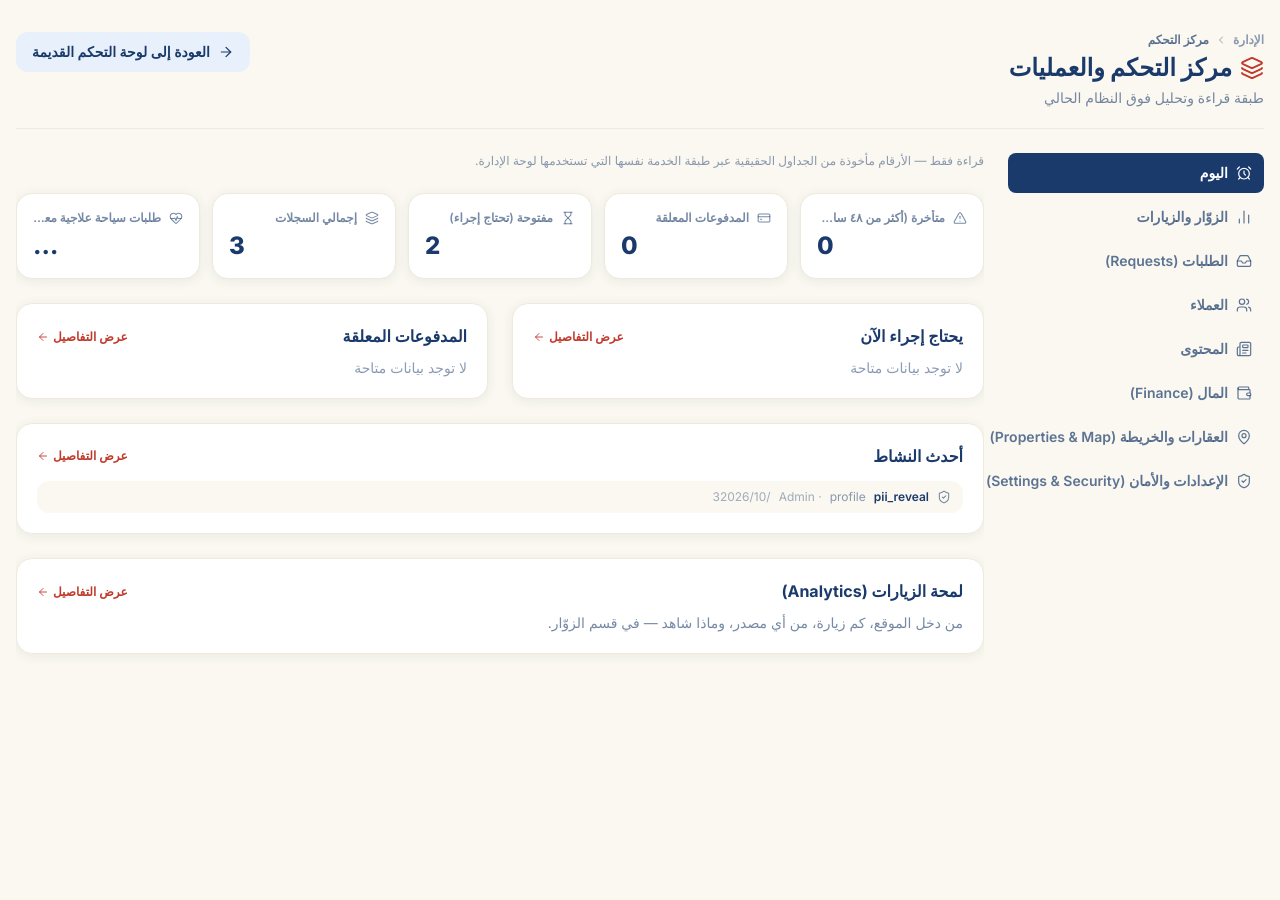
Scenario: Control Center navigation › navigates to money via its sidebar button
Click the button "المال (Finance)".
click(1136, 393)  # box [1008, 373, 1264, 413]
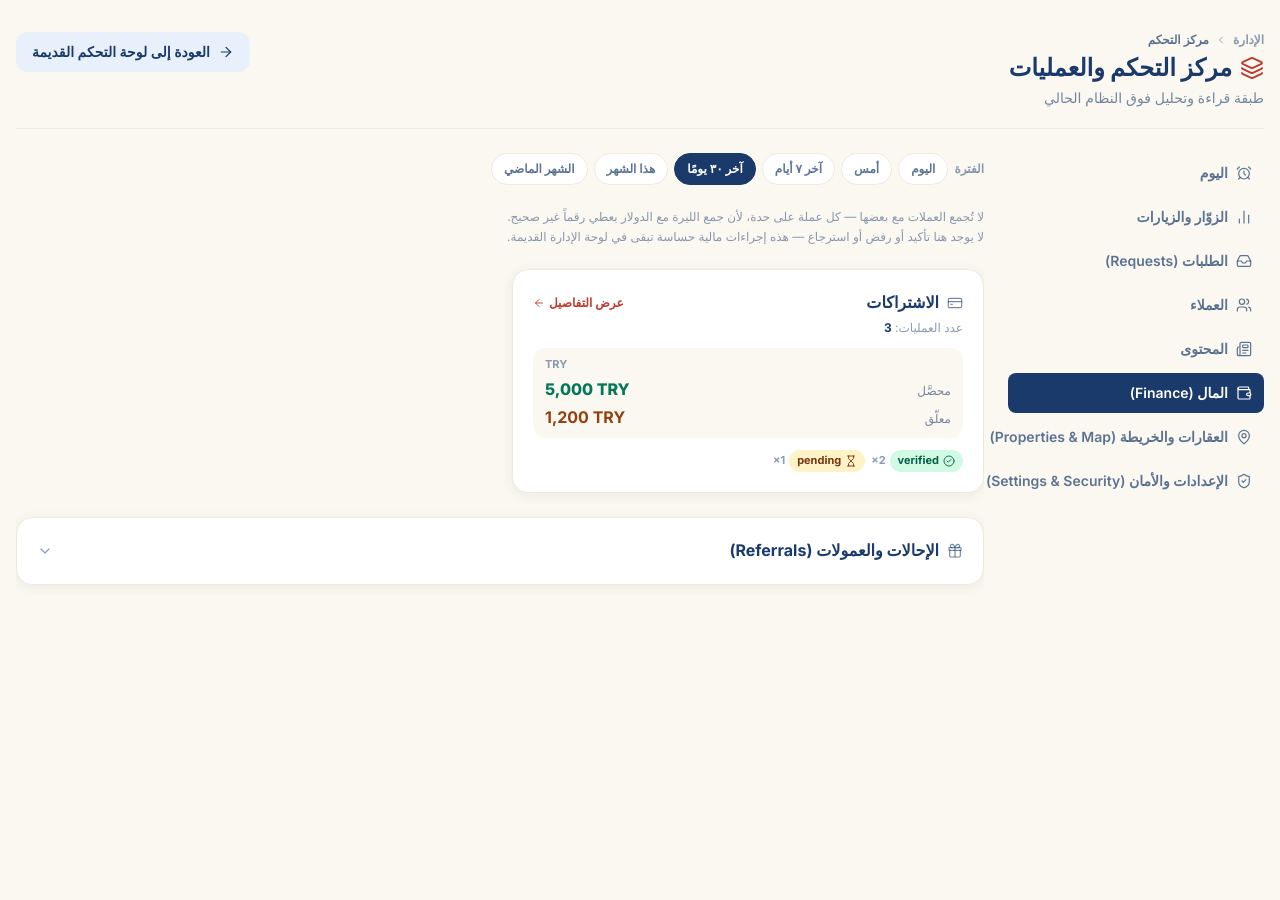
Expected: the heading "الاشتراكات" is shown, [866, 290, 963, 316]
